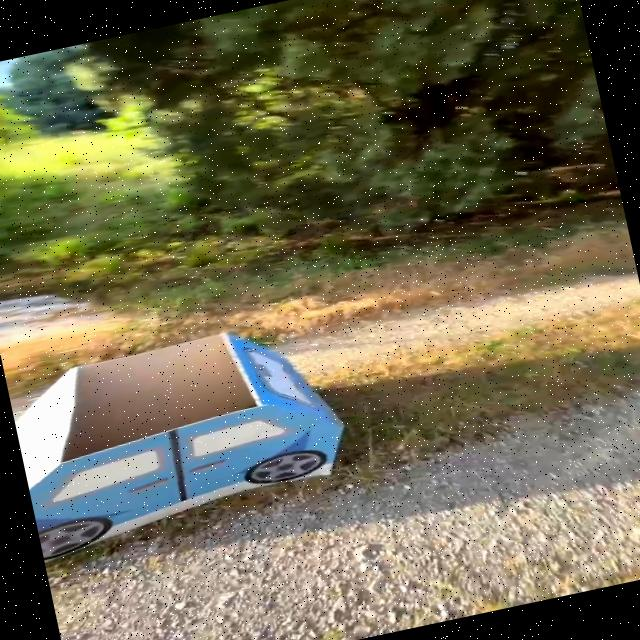blue_car: (0, 258, 397, 587)
